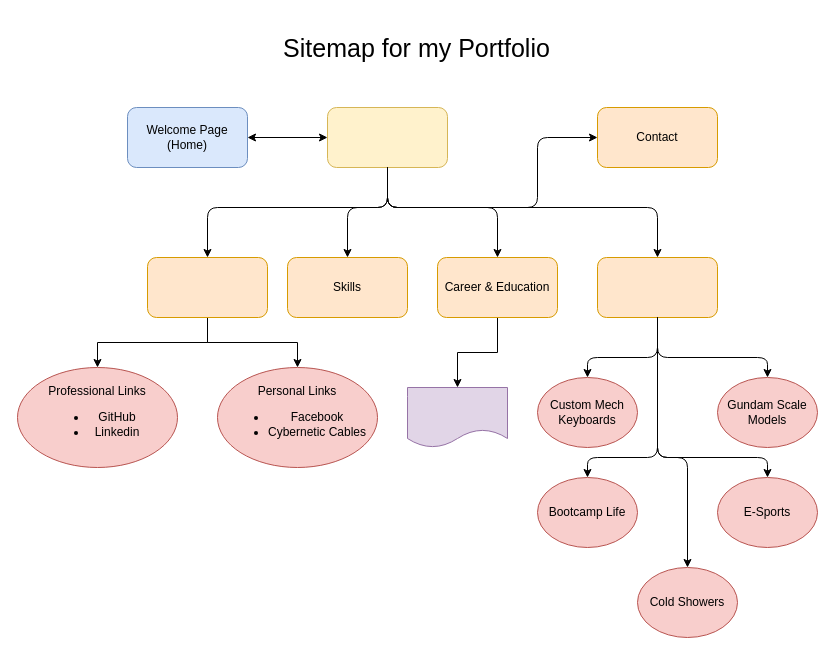
Image size: 835x655. Some labels were removed from this diagram. The shapes that lost their labels are listed below. From the top down, each one's box as (x1, y1, x2, y2) in pixels, then its label:
(326, 106, 448, 168): About Me Page
(146, 256, 268, 318): Links
(596, 256, 718, 318): Blog
(406, 386, 508, 448): Resume
